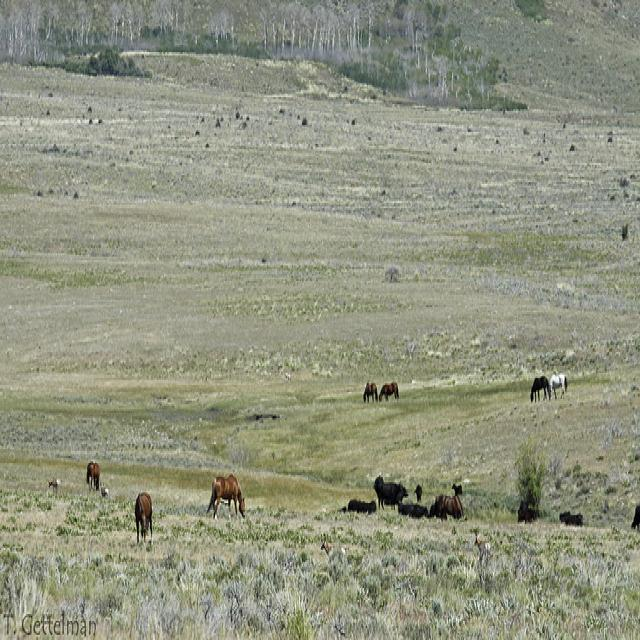cow: (434, 491, 461, 517), (381, 481, 407, 507), (347, 496, 375, 512), (372, 474, 383, 507), (408, 503, 426, 517), (563, 510, 581, 522), (411, 481, 421, 502), (631, 505, 639, 526), (450, 481, 461, 493)
